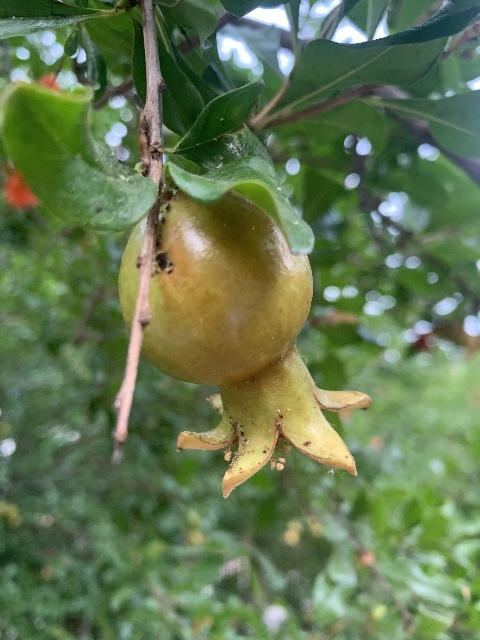mid-growth: (119, 192, 370, 499)
